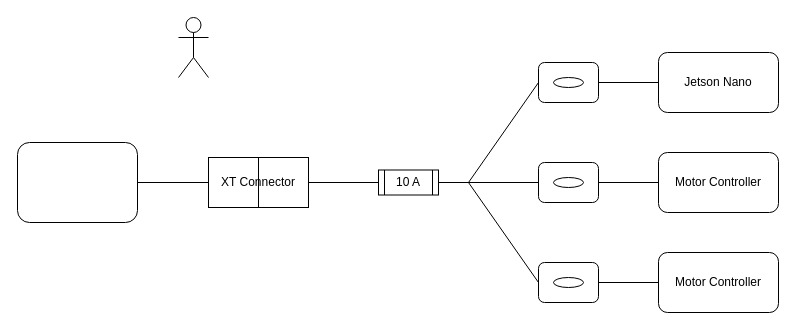
Image size: 796x330. Some labels were removed from this diagram. The shapes that lost their labels are listed below. From the top down, each one's centre as x and y in pixels, then its label:
At (193,47): "Josh".
At (77,182): "Lipo".
